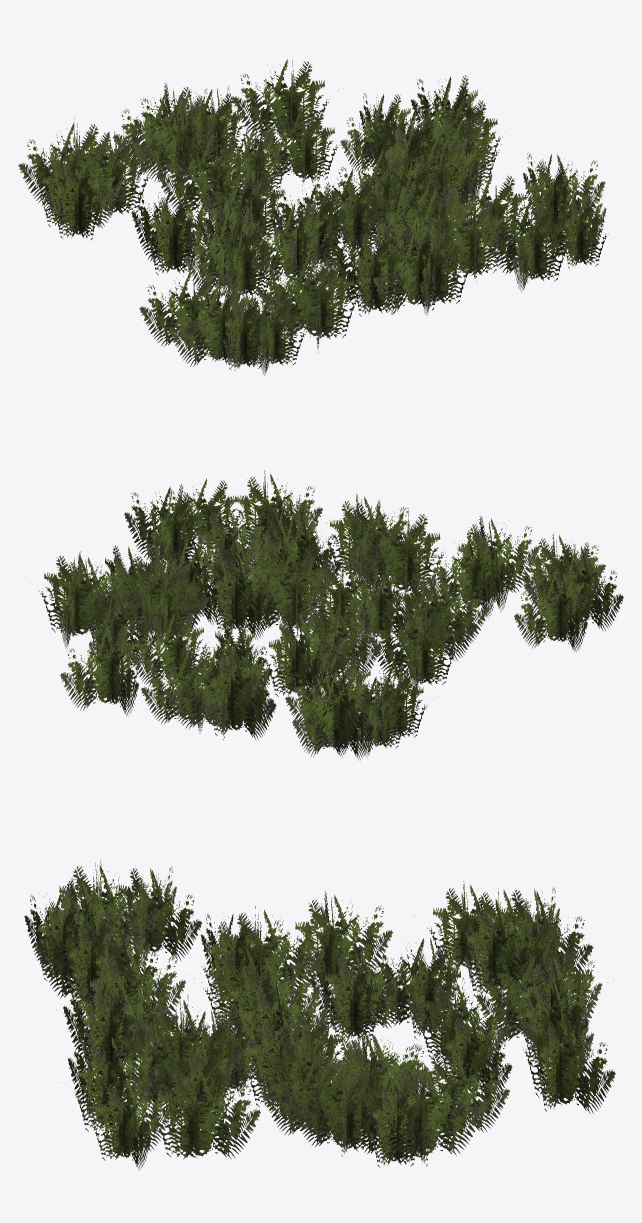
The model's file is shrub_1.glb.
3 views of the same model, one above another, from view 1: azimuth 30°, elevation 25°; view 2: azimuth 150°, elevation 25°; view 3: azimuth 270°, elevation 25° (orthographic). The views are drawn at different scales.
Visible parts, largest first — view 1: red-baron-grass-ornamental-Va7qqJC-600.001_red-baron-grass-o, red-baron-grass-ornamental-Va7qqJC-600_red-baron-grass-ornam; view 2: red-baron-grass-ornamental-Va7qqJC-600_red-baron-grass-ornam, red-baron-grass-ornamental-Va7qqJC-600.001_red-baron-grass-o; view 3: red-baron-grass-ornamental-Va7qqJC-600.001_red-baron-grass-o, red-baron-grass-ornamental-Va7qqJC-600_red-baron-grass-ornam.
Boxes of the visible parts, bbox=[...] form: red-baron-grass-ornamental-Va7qqJC-600.001_red-baron-grass-o: bbox=[18, 59, 608, 375]; red-baron-grass-ornamental-Va7qqJC-600_red-baron-grass-ornam: bbox=[28, 59, 606, 370]; red-baron-grass-ornamental-Va7qqJC-600_red-baron-grass-ornam: bbox=[60, 470, 617, 757]; red-baron-grass-ornamental-Va7qqJC-600.001_red-baron-grass-o: bbox=[39, 474, 623, 760]; red-baron-grass-ornamental-Va7qqJC-600.001_red-baron-grass-o: bbox=[24, 859, 613, 1166]; red-baron-grass-ornamental-Va7qqJC-600_red-baron-grass-ornam: bbox=[23, 865, 615, 1170].
Size of the model in its own units: 4.58 by 1.09 by 4.49.
1 material, 1 textured.
